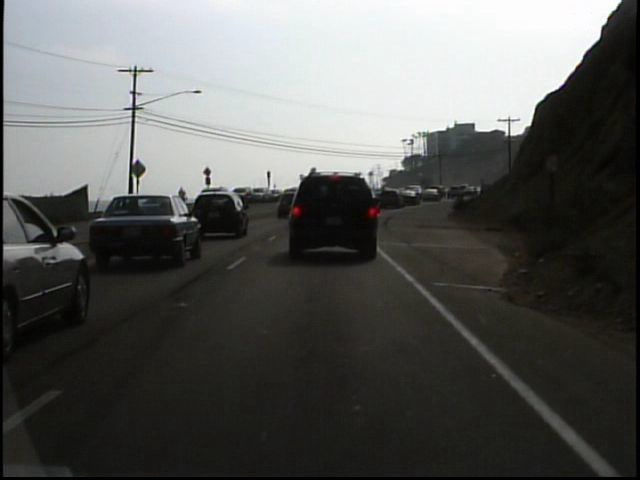person: (175, 183, 189, 211)
